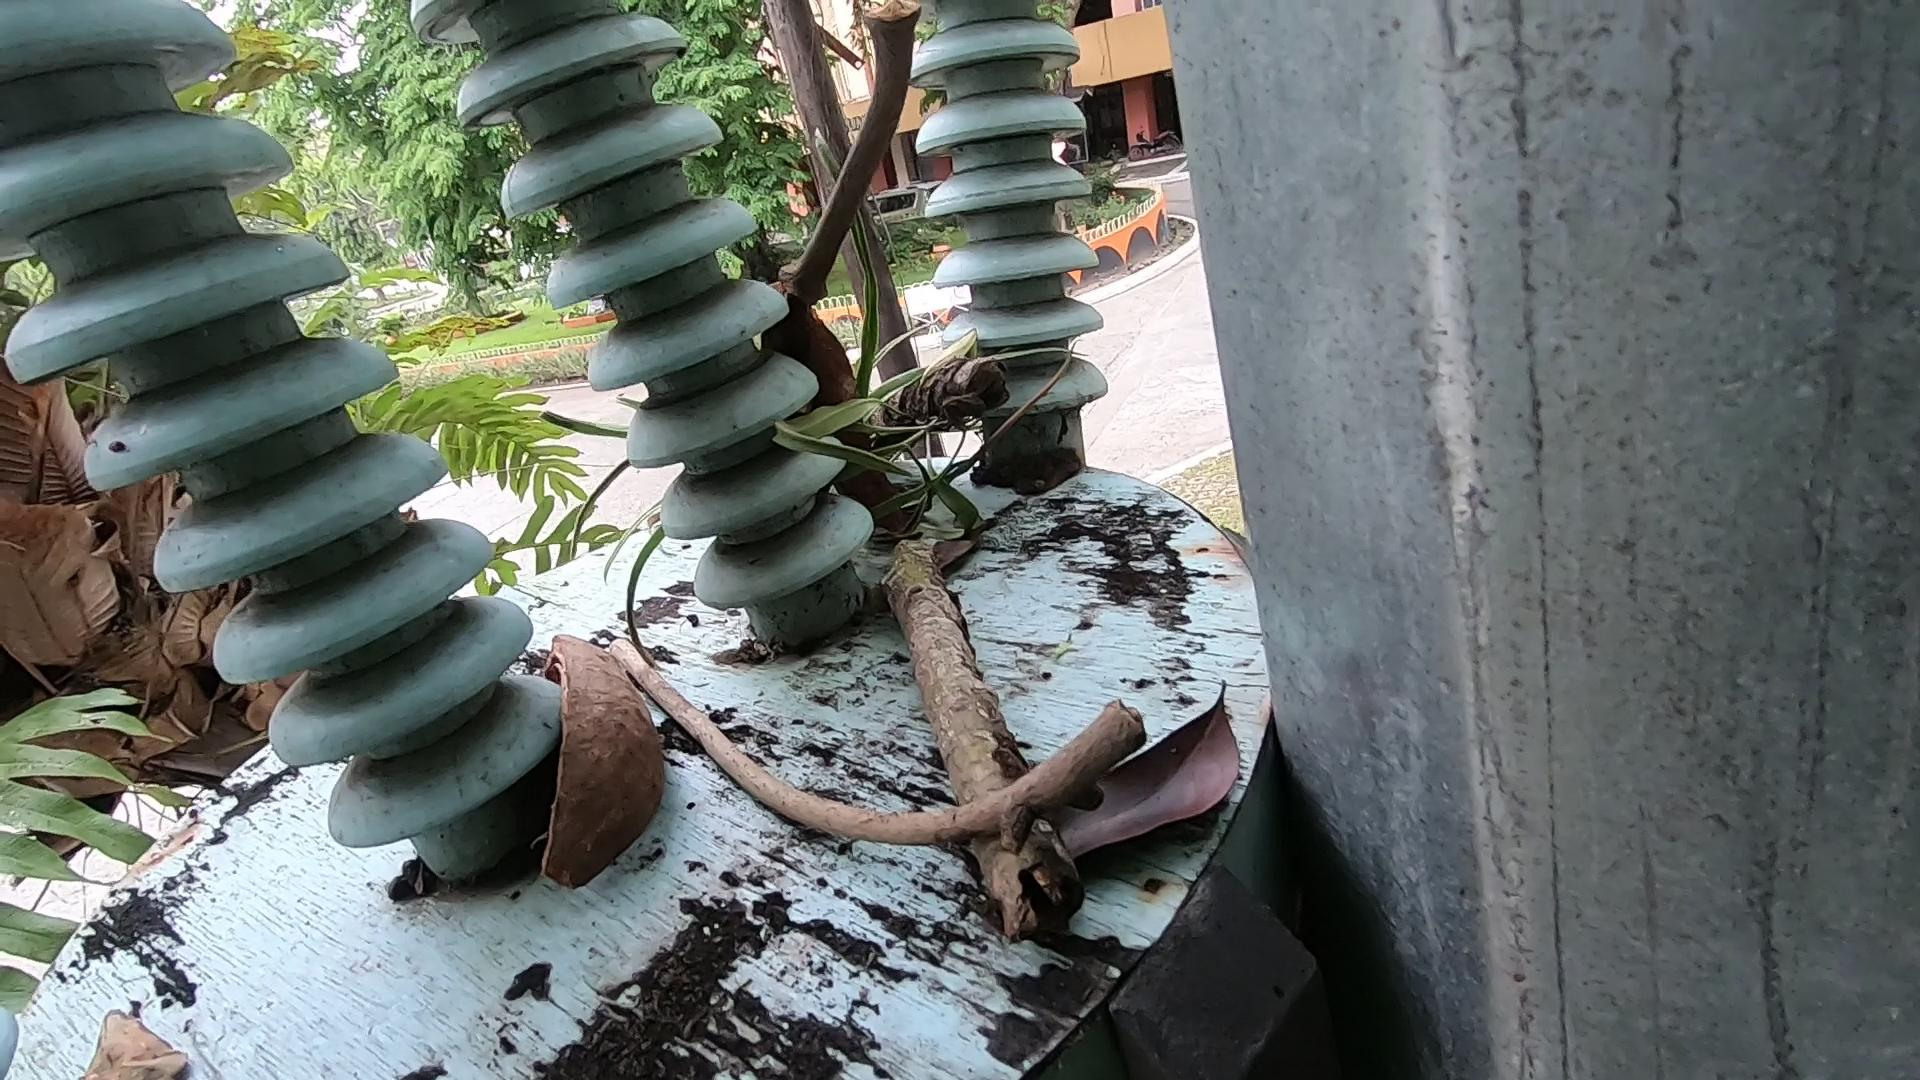branch with leaves: (812, 244, 1218, 932)
leaf: (1065, 628, 1274, 926), (41, 994, 194, 1080)
mahogany fruit: (742, 266, 939, 588), (556, 597, 645, 924)
tree branch: (574, 621, 1216, 872), (787, 1, 914, 365)
